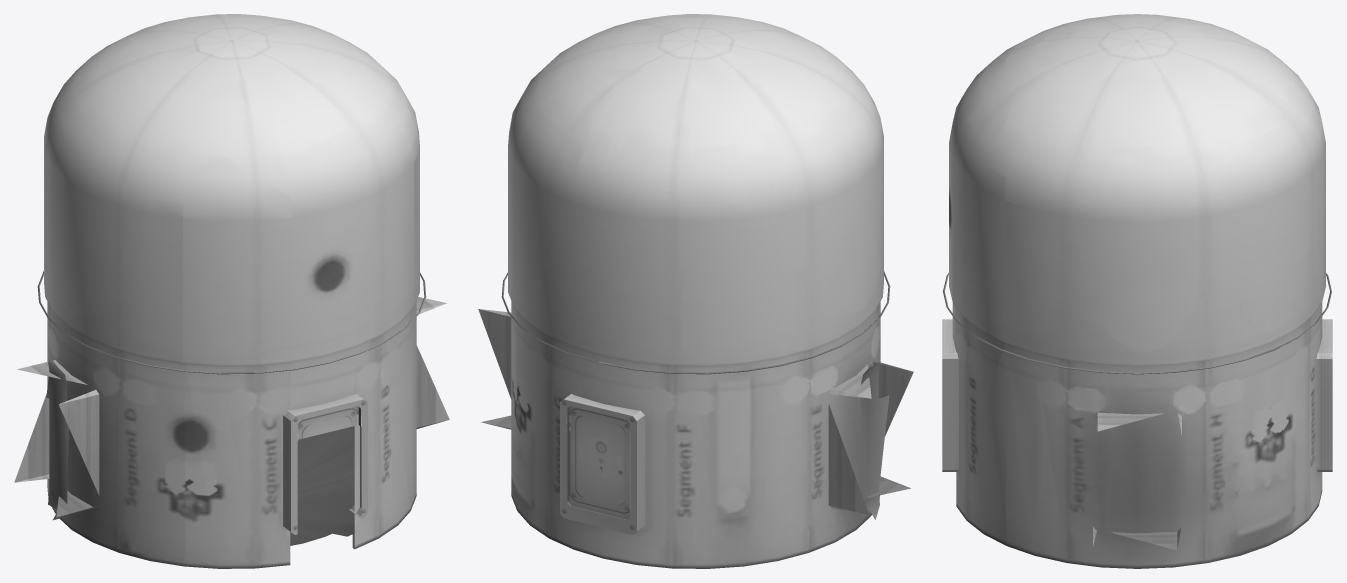
The model's file is hdu_habitat.glb.
3 renders of one model, left to right at view 1: azimuth 30°, elevation 25°; view 2: azimuth 150°, elevation 25°; view 3: azimuth 270°, elevation 25°, orthographic.
Visible parts, largest first — view 1: hdu_habitat_shell; view 2: hdu_habitat_shell; view 3: hdu_habitat_shell.
Part boxes in pixels (x1,y1,x2,y2): hdu_habitat_shell: [14, 14, 449, 568]; hdu_habitat_shell: [478, 14, 913, 568]; hdu_habitat_shell: [942, 14, 1332, 568].
Size of the model in its own units: 7.31 by 8.28 by 6.32.
1 material, 1 textured.
